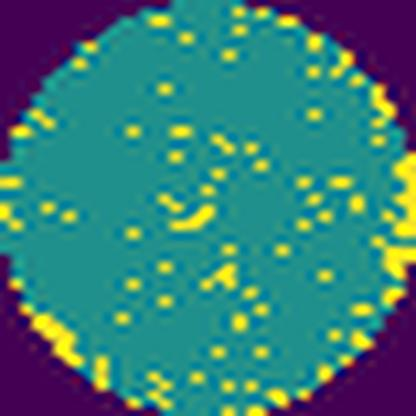Edge-Loc: (20, 308, 85, 376), (384, 146, 415, 236), (373, 239, 415, 280)
